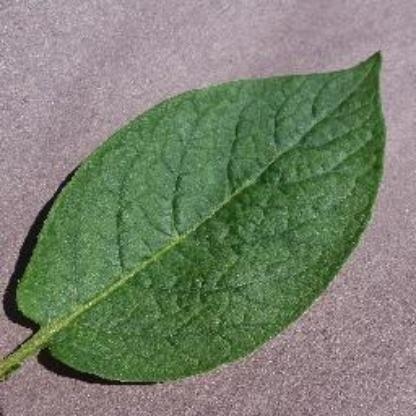Healthy-plant: (0, 38, 393, 400)
